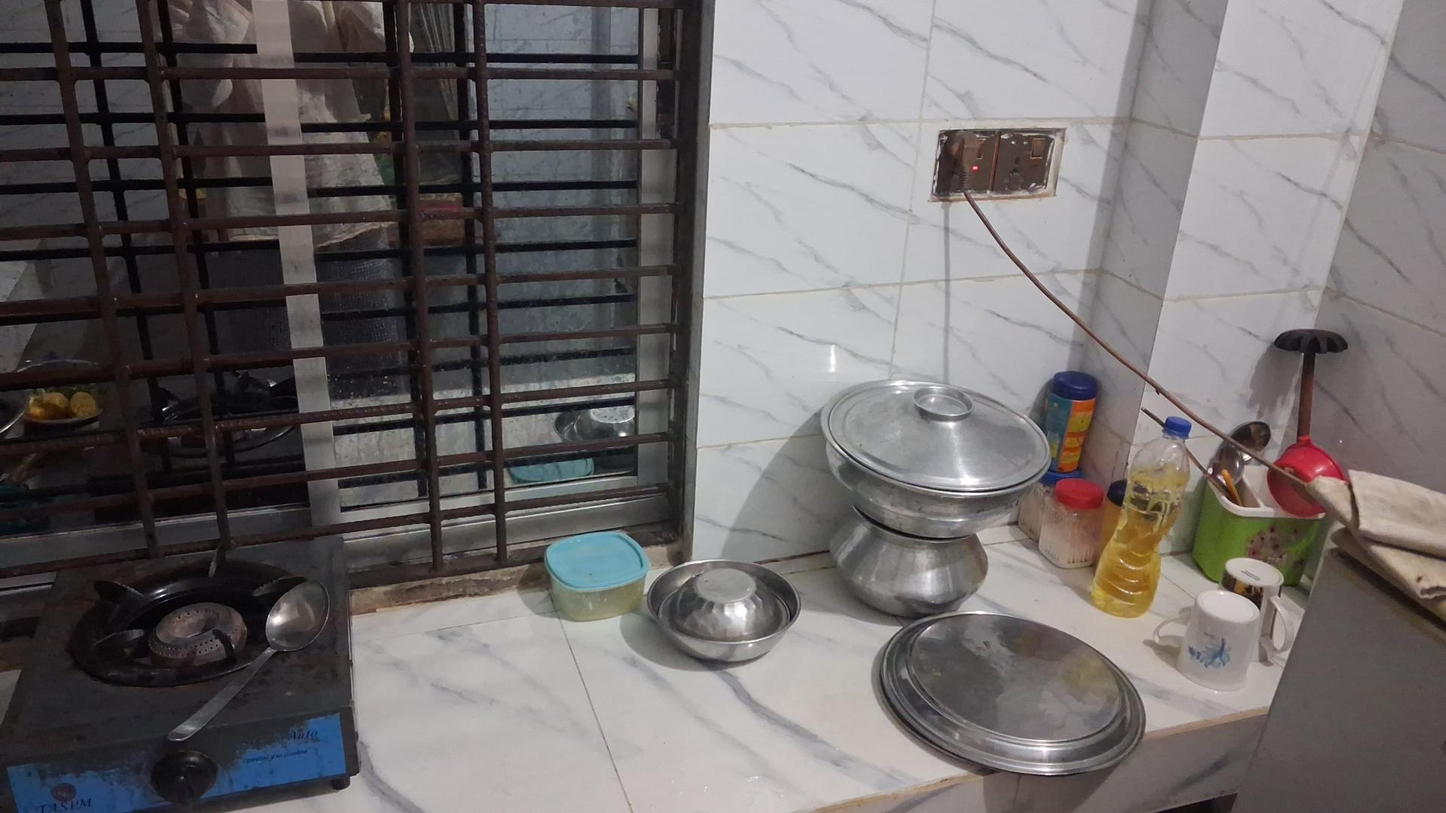Bottle: (1088, 416, 1198, 619)
Bowl: (646, 559, 801, 666)
Cup: (1149, 589, 1261, 693)
Jar: (544, 530, 651, 621), (1036, 372, 1094, 473), (1036, 483, 1101, 571)
Plate: (871, 610, 1151, 773)
Pot: (821, 372, 1050, 544), (831, 517, 998, 605)
Spoon: (168, 581, 328, 743)
